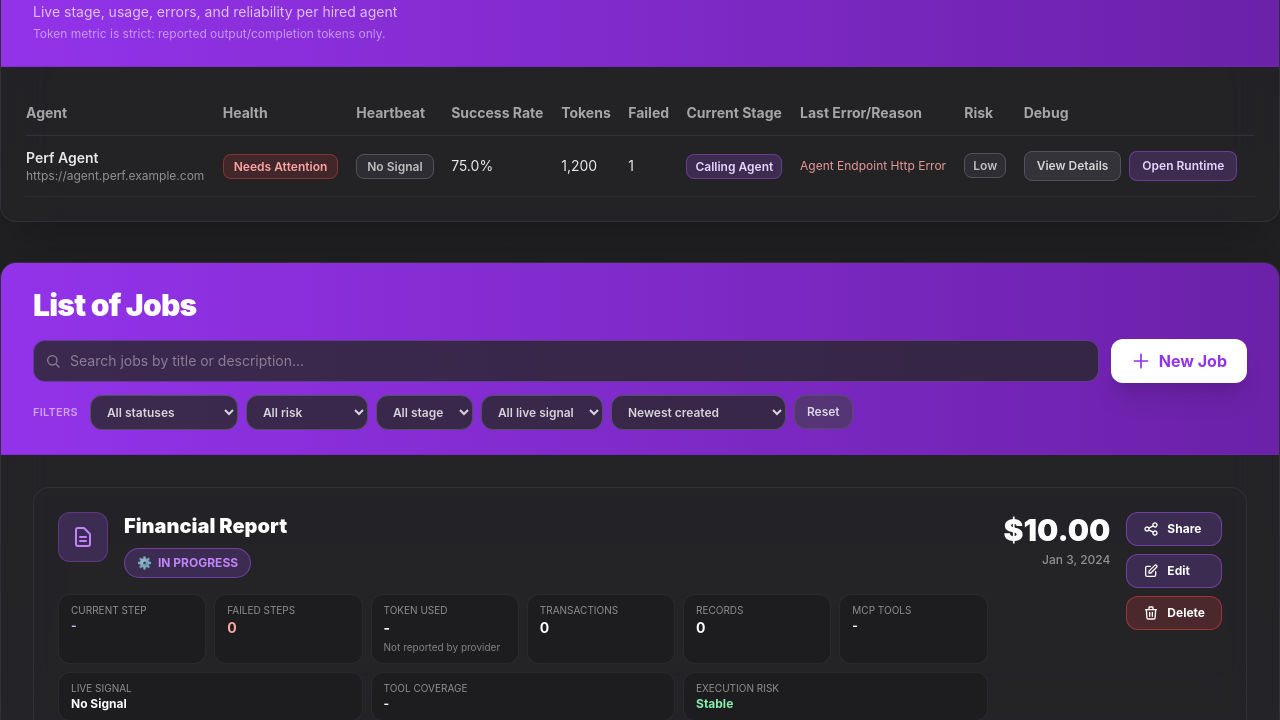
Test: BusinessDashboard › filters jobs by search term
(page scrolled)
Type "Math" into the field with placeholder "Search jobs by title or description..." at (566, 360), box [33, 340, 1099, 382]
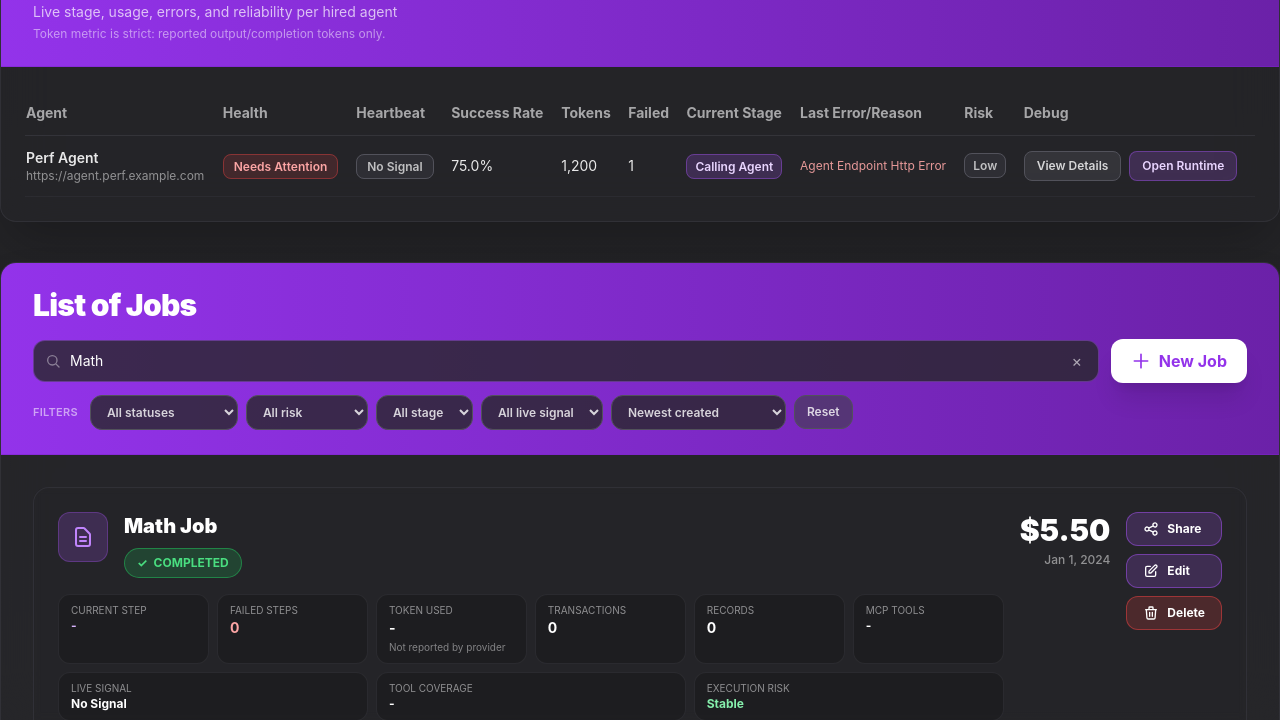
Expected: the heading "Math Job" is shown, [124, 514, 217, 538]
Expected: the link "Financial Report" is gone
